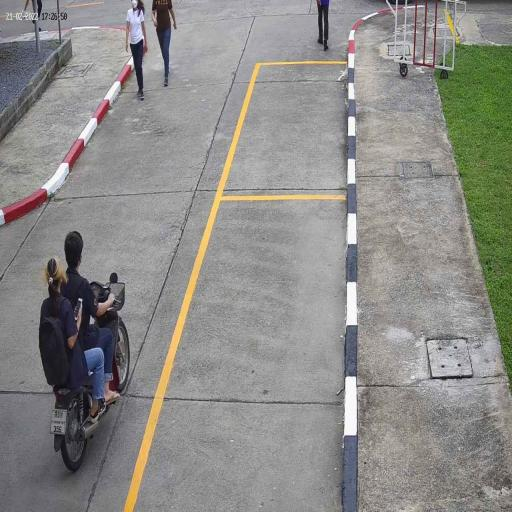motorcycle: (49, 319, 133, 476)
